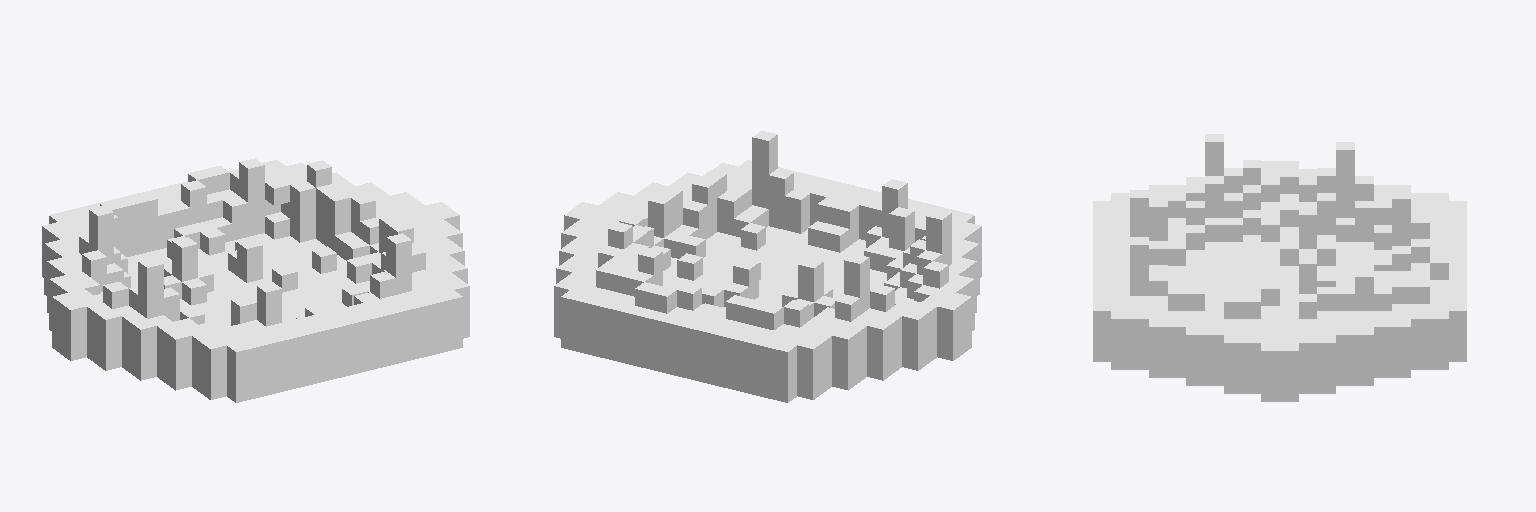
The model's file is overworld-40-stone_quarry.obj.
3 views of the same model, side by side, from view 1: azimuth 30°, elevation 25°; view 2: azimuth 150°, elevation 25°; view 3: azimuth 270°, elevation 25° (orthographic).
Parts seen in each view (by area): view 1: stone_quarry; view 2: stone_quarry; view 3: stone_quarry.
Boxes of the visible parts, <box> form: stone_quarry: <box>42,158,469,402</box>; stone_quarry: <box>554,131,981,402</box>; stone_quarry: <box>1093,134,1466,401</box>.
Bounding box in the file's own units: 2.4 × 0.6 × 2.